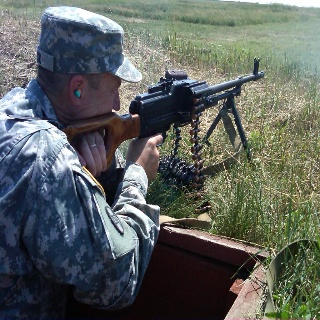rifle: (52, 56, 266, 178)
